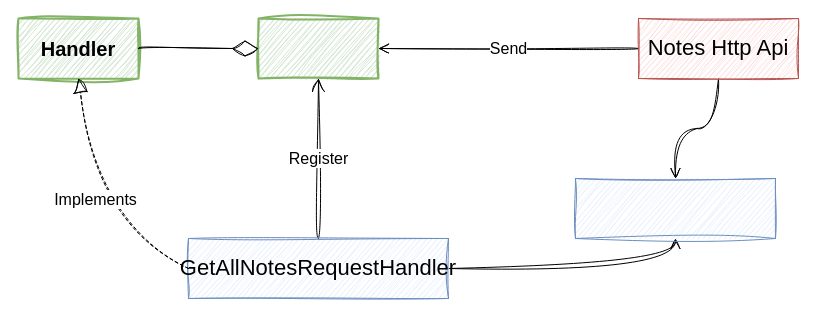
Some shapes in this 816 by 316 pixel diagram are drawn without their labels. The shapes that lost their labels are listed below. From the top down, each one's centre as x and y in pixels, then its label:
point 318,48: Mediator
point 675,208: GetAllNotesRequest
